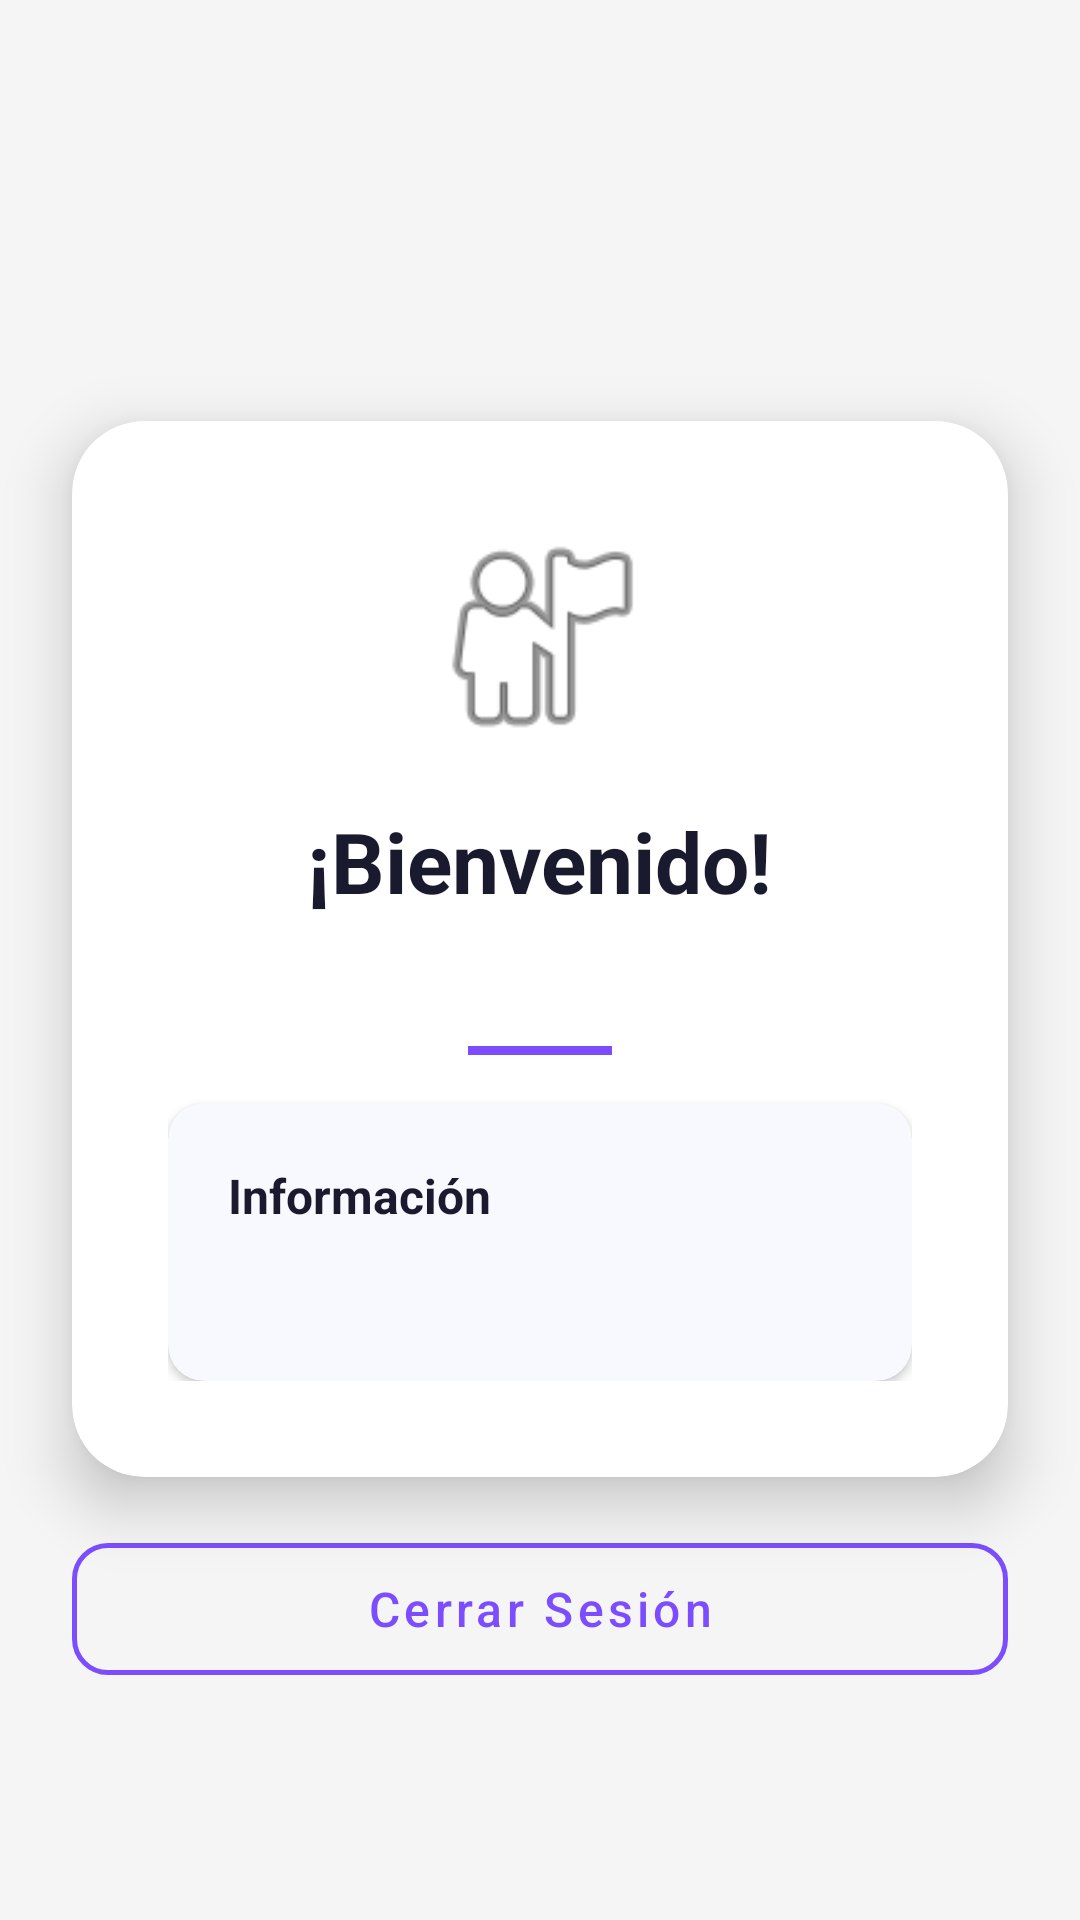

Named icons in this screenshot (1080px×1920px) and their bounding boxes, [x1,y1,x2,y2]:
Avatar: [452,547,633,727]
